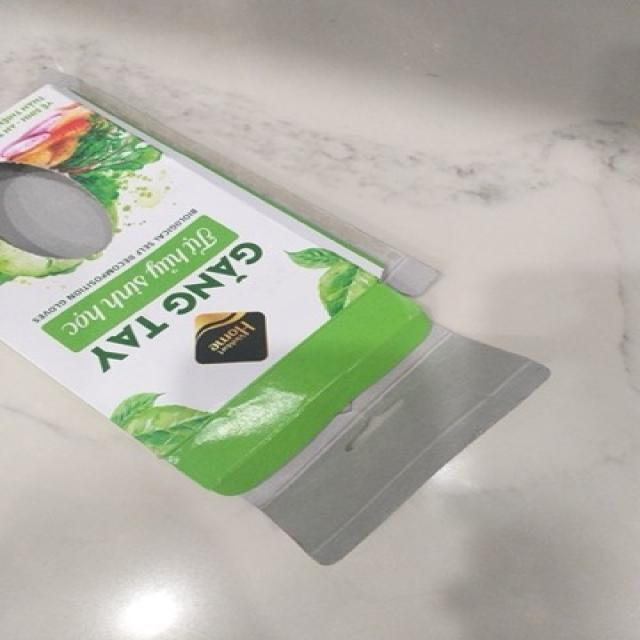PaperCardboard: (0, 81, 562, 566)
